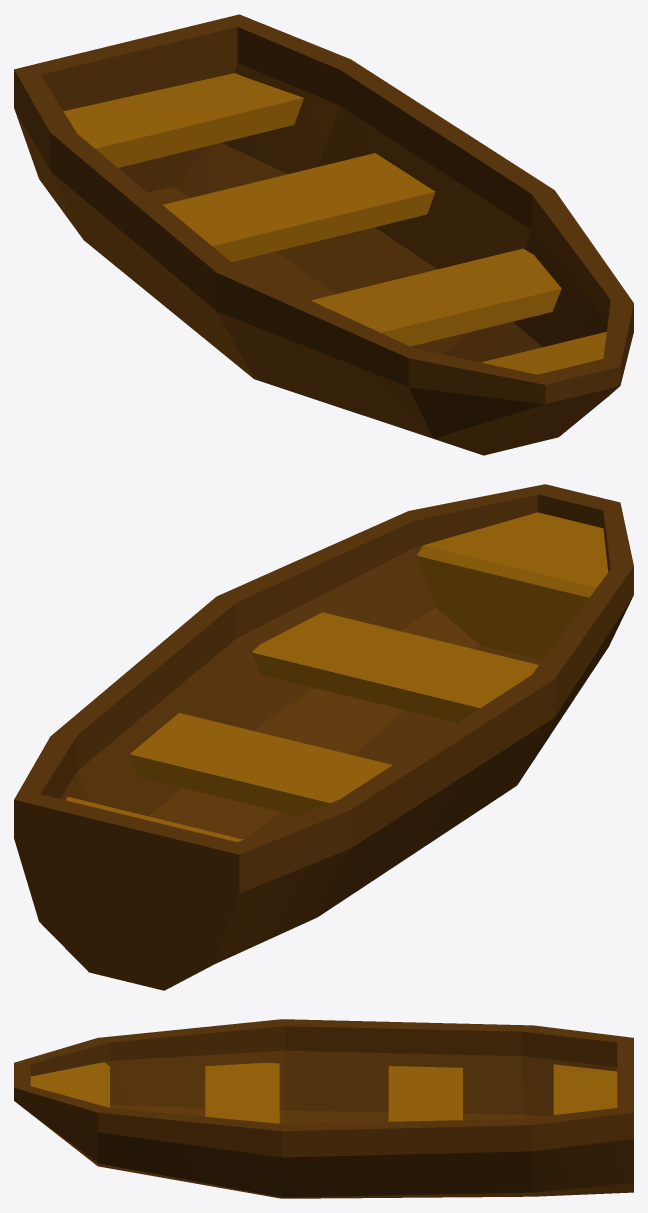
The model's file is boat.fbx.
3 renders of one model, top to bottom at view 1: azimuth 30°, elevation 25°; view 2: azimuth 150°, elevation 25°; view 3: azimuth 270°, elevation 25°, orthographic. The views are drawn at different scales.
Parts seen in each view (by area): view 1: Boat; view 2: Boat; view 3: Boat.
Boxes of the visible parts, left/top/right/bottom form: Boat: left=14, top=14, right=633, bottom=455; Boat: left=14, top=484, right=633, bottom=990; Boat: left=14, top=1019, right=633, bottom=1198.
Size of the model in its own units: 107 by 46.62 by 250.
